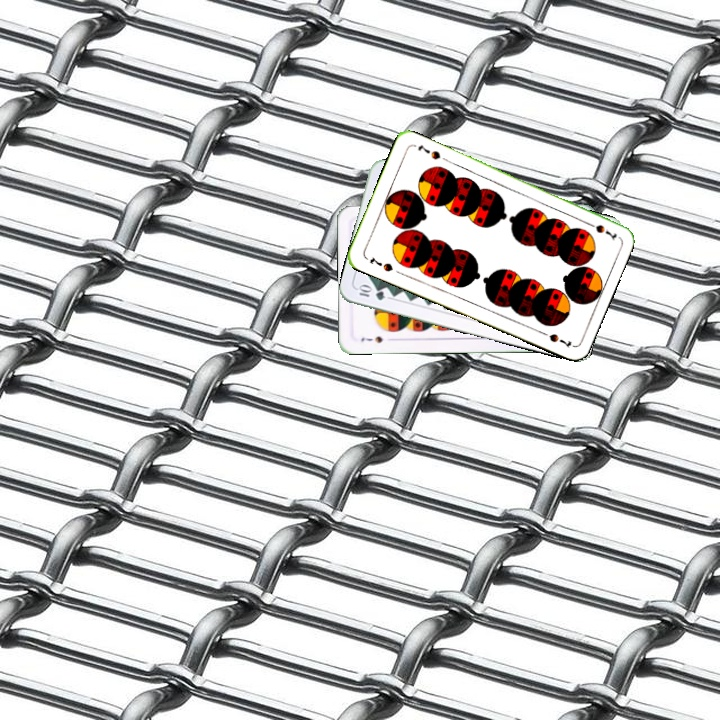G10: (354, 281, 388, 303)
S7: (581, 218, 619, 242), (365, 253, 395, 274), (357, 332, 385, 345)
